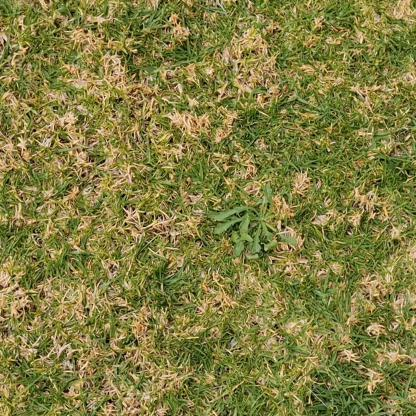Weeds: (213, 185, 297, 260)
